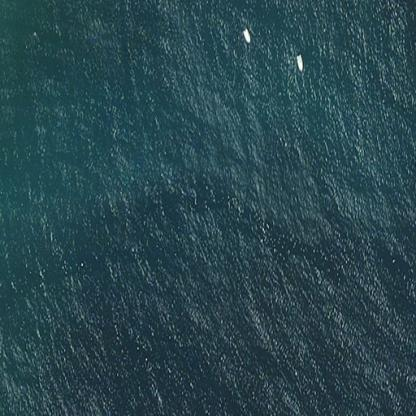ship: (288, 47, 310, 75), (233, 22, 257, 47)
